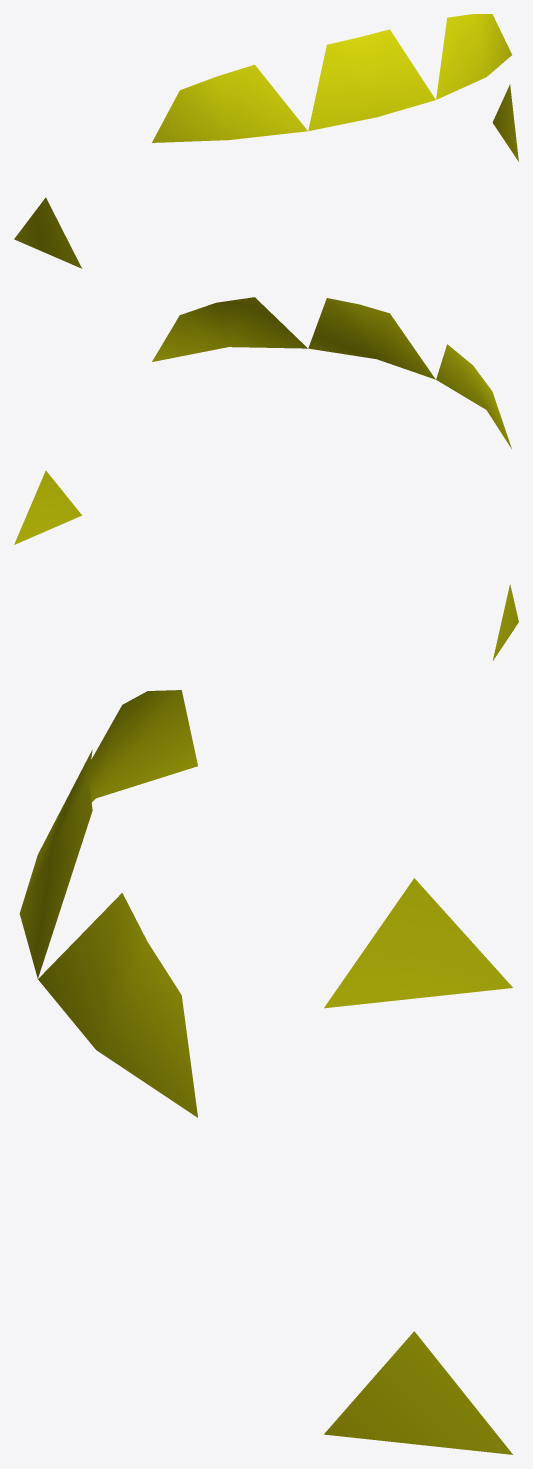
File: Forehead2_11.glb
3 renders of one model, top to bottom at view 1: azimuth 30°, elevation 25°; view 2: azimuth 150°, elevation 25°; view 3: azimuth 270°, elevation 25°, orthographic. The views are drawn at different scales.
Bounding box in the file's own units: 52.6 × 23.26 × 23.5.
